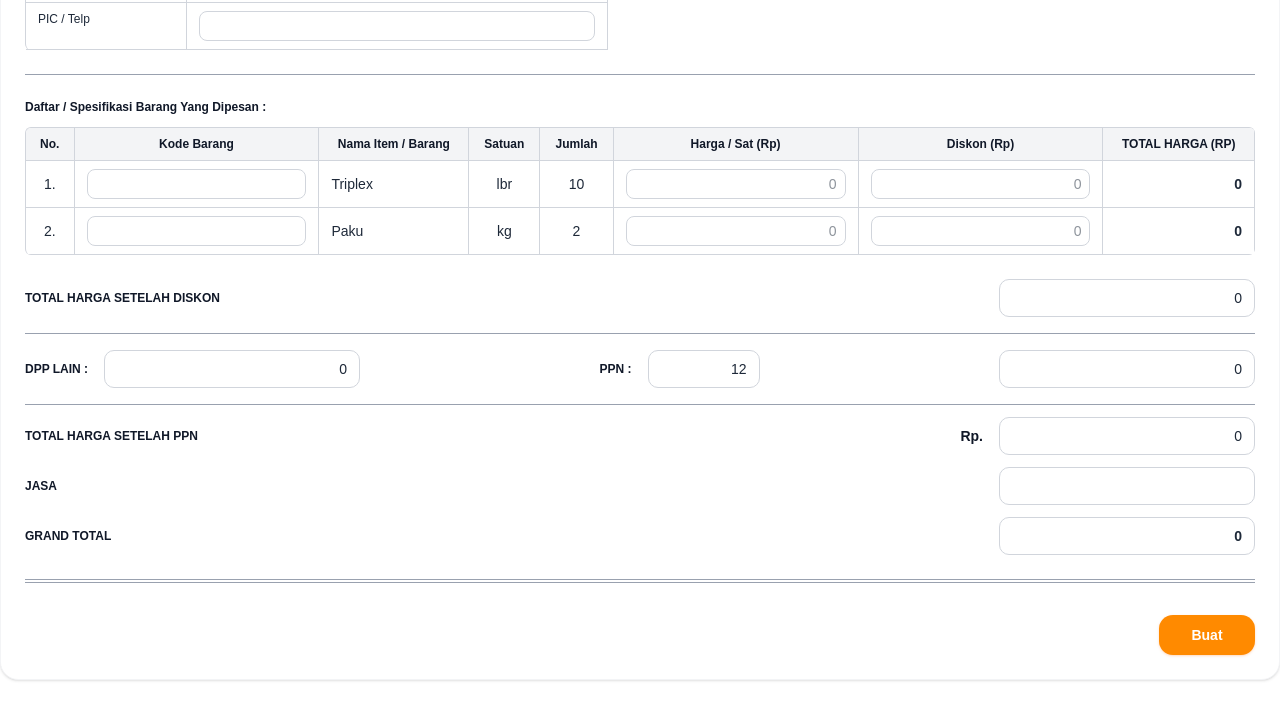
PemesananPembelian submit › validation: Tanggal PO wajib diisi.
The image size is (1280, 720).
(page scrolled)
Click the button "Buat" at (1207, 635), box [1159,615,1255,655]
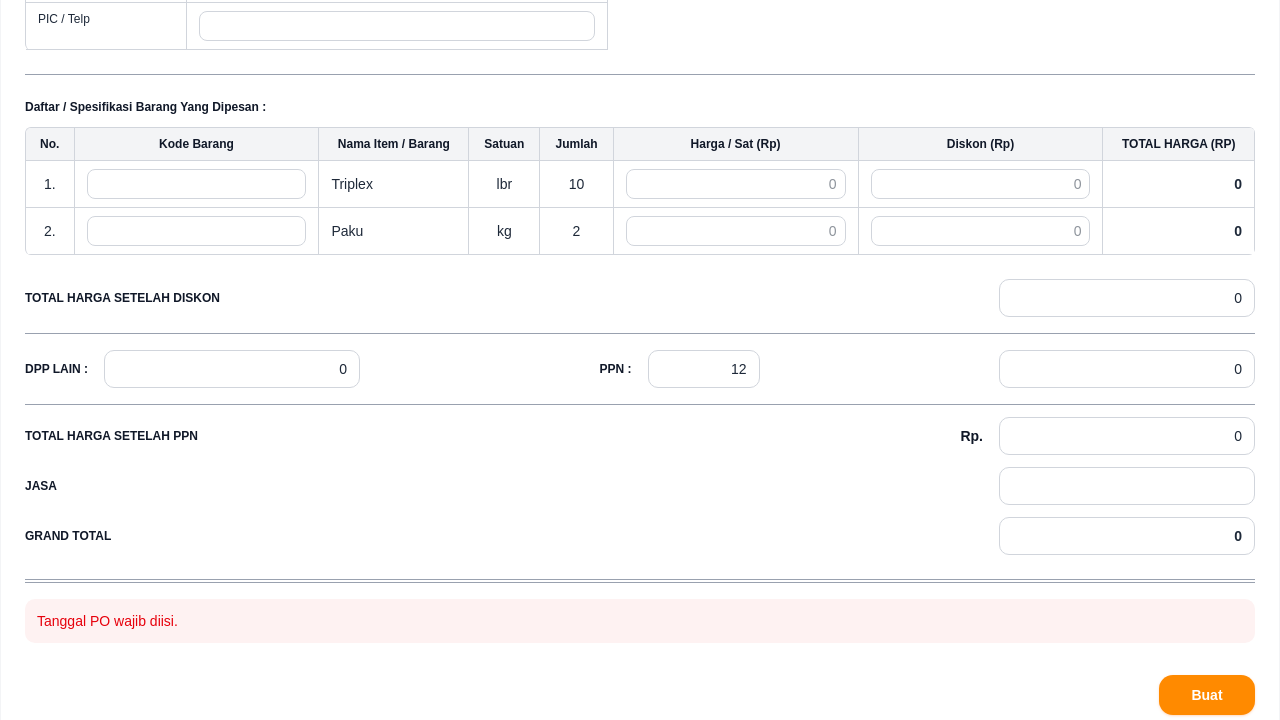
Expected: the text "Tanggal PO wajib diisi." is shown, [25,599,1255,643]
